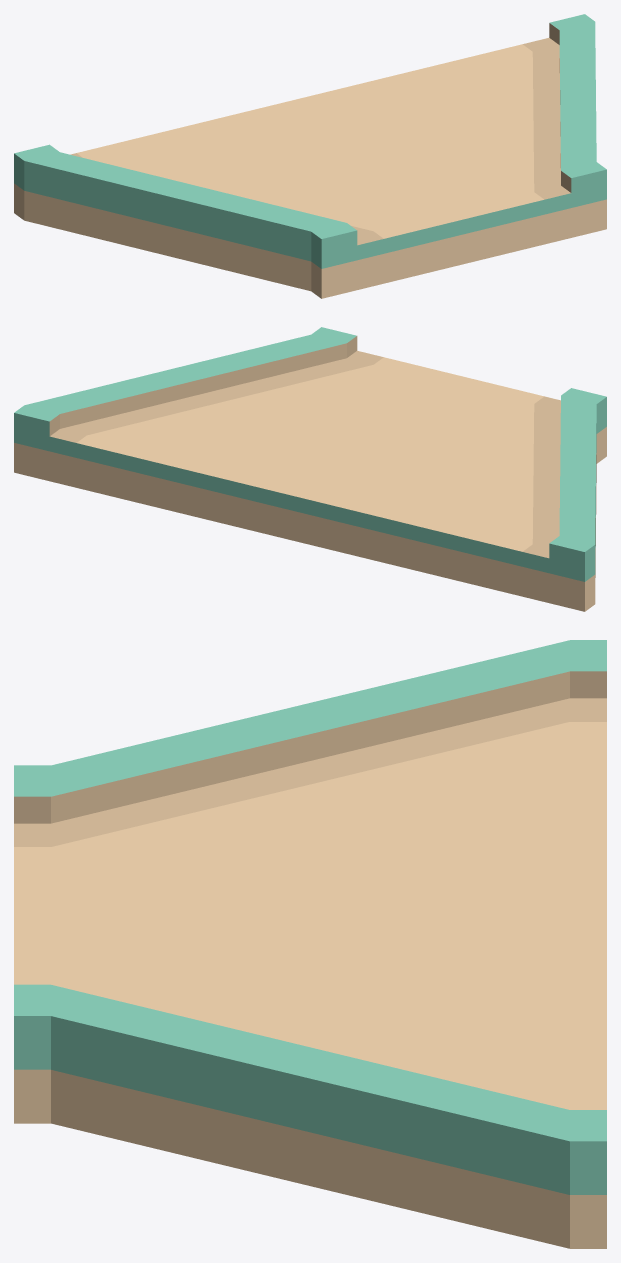
The model's file is tile_wideTransition.glb.
3 views of the same model, one above another, from view 1: azimuth 30°, elevation 25°; view 2: azimuth 150°, elevation 25°; view 3: azimuth 270°, elevation 25° (orthographic). The views are drawn at different scales.
Visible parts, largest first — view 1: tile_wideTransition; view 2: tile_wideTransition; view 3: tile_wideTransition.
Boxes of the visible parts, <box> form: tile_wideTransition: <box>14,14,606,298</box>; tile_wideTransition: <box>14,327,606,611</box>; tile_wideTransition: <box>14,640,606,1248</box>.
Size of the model in its own units: 2 by 0.2 by 1.
